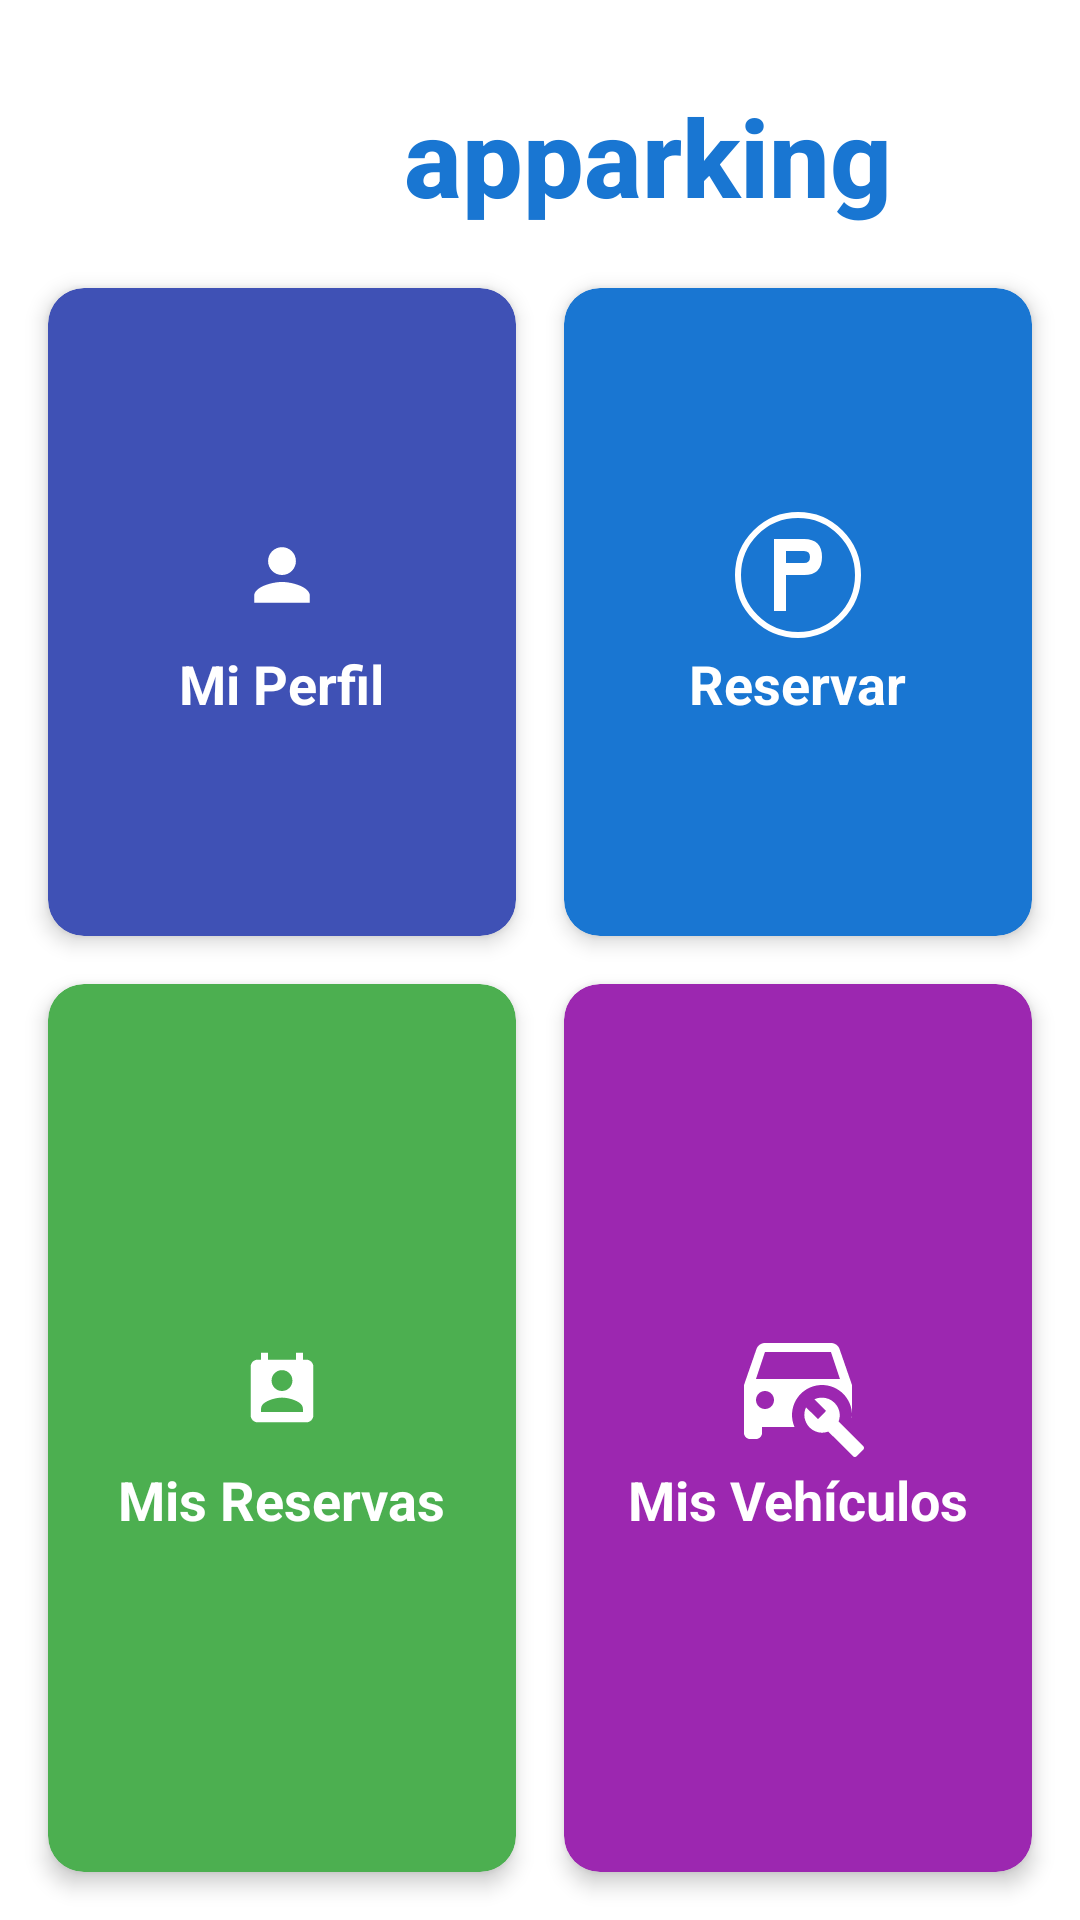

Screen size 1080*1920. Icon name, then its center in pixels as (x=x, y=y):
parking: (x=798, y=575)
person: (x=282, y=575)
reservations: (x=282, y=1387)
